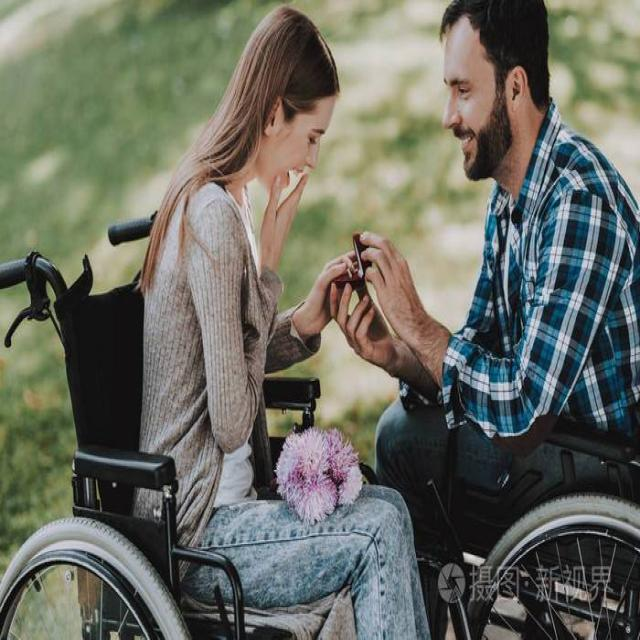wheelchairs: (0, 201, 413, 639), (399, 368, 640, 640)
